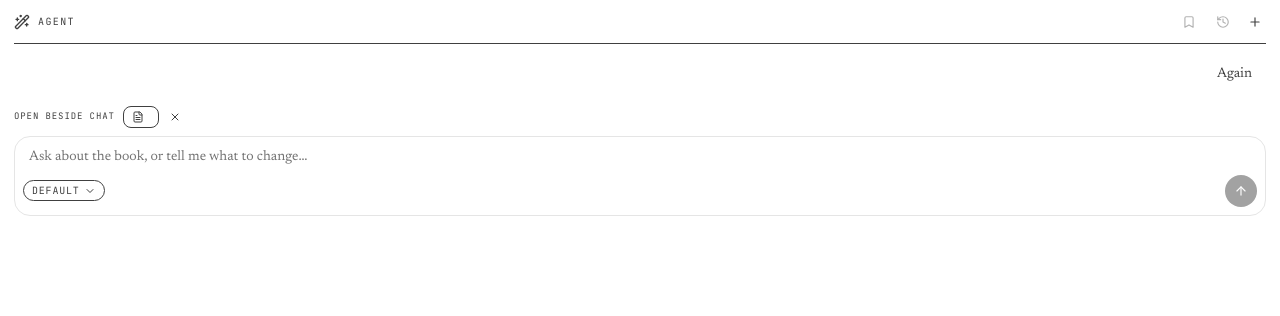
it: manuscript chat context › does not mistake an earlier identical message for the new optimistic echo
Type "Again" into the text box at (640, 156), box top-left (15, 137), bottom-right (1265, 175)
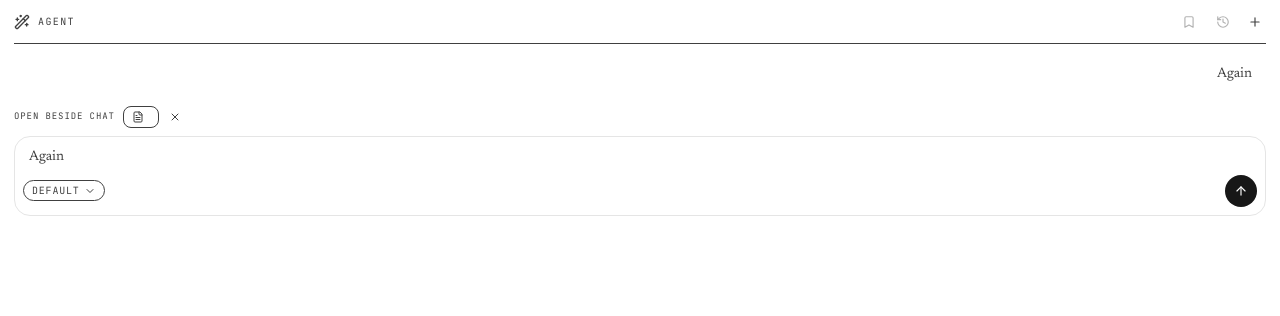
Click the button named "Send" at (1241, 191), box top-left (1225, 175), bottom-right (1257, 207)
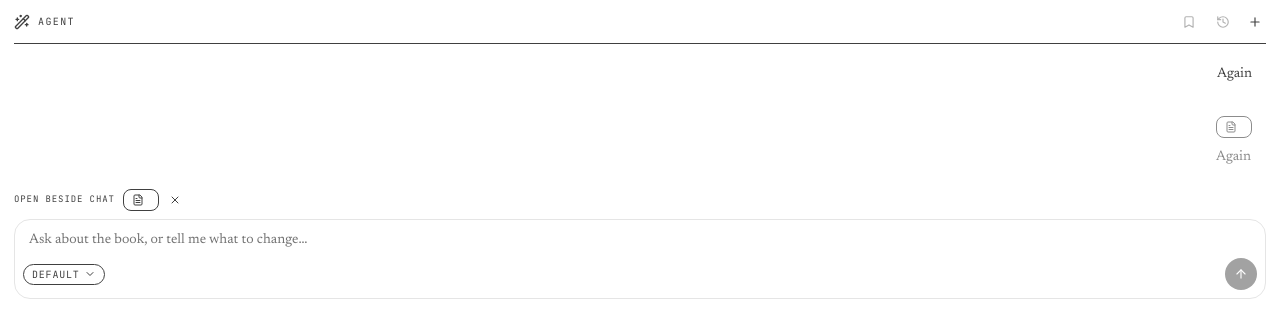
Expected: the text "Again" is shown 2 times, top-left (1217, 64), bottom-right (1252, 86); top-left (1216, 147), bottom-right (1252, 169)
